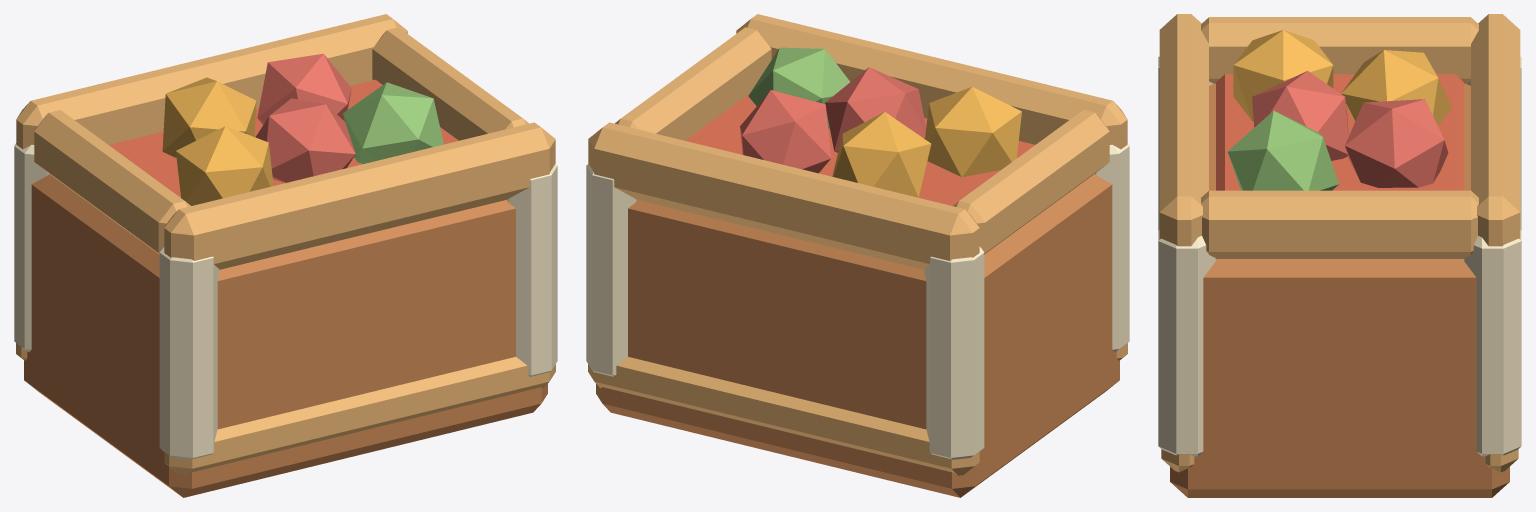
File: crate.fbx
3 renders of one model, left to right at view 1: azimuth 30°, elevation 25°; view 2: azimuth 150°, elevation 25°; view 3: azimuth 270°, elevation 25°, orthographic. The views are drawn at different scales.
Visible parts, largest first — view 1: Fruit crate, Long rail, Long rail.001, Bottom rail, Corner brace, End rail, Corner brace.002, End rail.001, Produce.001, Produce, Produce.002, Produce.003 (+3 smaller); view 2: Fruit crate, Long rail.001, Bottom rail.001, Long rail, Corner brace.001, End rail, Corner brace.003, End rail.001, Produce, Produce.003, Produce.004, Produce.001 (+3 smaller); view 3: Fruit crate, End rail.001, End rail, Long rail, Long rail.001, Corner brace.002, Corner brace.003, Produce.004, Inset, Produce.002, Produce.003, Produce (+3 smaller).
Boxes of the visible parts, <box> form: Fruit crate: <box>24,174,547,497</box>; Long rail: <box>164,122,555,269</box>; Long rail.001: <box>16,14,407,149</box>; Bottom rail: <box>164,357,555,475</box>; Corner brace: <box>159,246,219,459</box>; End rail: <box>34,110,190,254</box>; Corner brace.002: <box>507,164,557,376</box>; End rail.001: <box>372,27,528,140</box>; Produce.001: <box>255,98,355,182</box>; Produce: <box>176,126,273,205</box>; Produce.002: <box>343,82,443,163</box>; Produce.003: <box>162,77,256,157</box>; Fruit crate: <box>596,174,1119,497</box>; Long rail.001: <box>588,122,979,269</box>; Bottom rail.001: <box>588,357,979,475</box>; Long rail: <box>736,14,1127,149</box>; Corner brace.001: <box>924,246,984,459</box>; End rail: <box>953,110,1109,254</box>; Corner brace.003: <box>586,164,636,376</box>; End rail.001: <box>615,27,771,140</box>; Produce: <box>925,86,1021,176</box>; Produce.003: <box>832,112,931,197</box>; Produce.004: <box>740,90,831,173</box>; Produce.001: <box>825,67,926,152</box>; Fruit crate: <box>1170,83,1509,497</box>; End rail.001: <box>1201,190,1478,258</box>; End rail: <box>1201,17,1478,83</box>; Long rail: <box>1159,14,1208,246</box>; Long rail.001: <box>1471,14,1520,246</box>; Corner brace.002: <box>1158,230,1215,456</box>; Corner brace.003: <box>1464,230,1521,456</box>; Produce.004: <box>1345,99,1448,187</box>; Inset: <box>1216,74,1463,190</box>; Produce.002: <box>1227,110,1338,190</box>; Produce.003: <box>1341,50,1451,126</box>; Produce: <box>1233,30,1333,121</box>.
Bounding box in the file's own units: 66.5 × 52.04 × 51.3.
